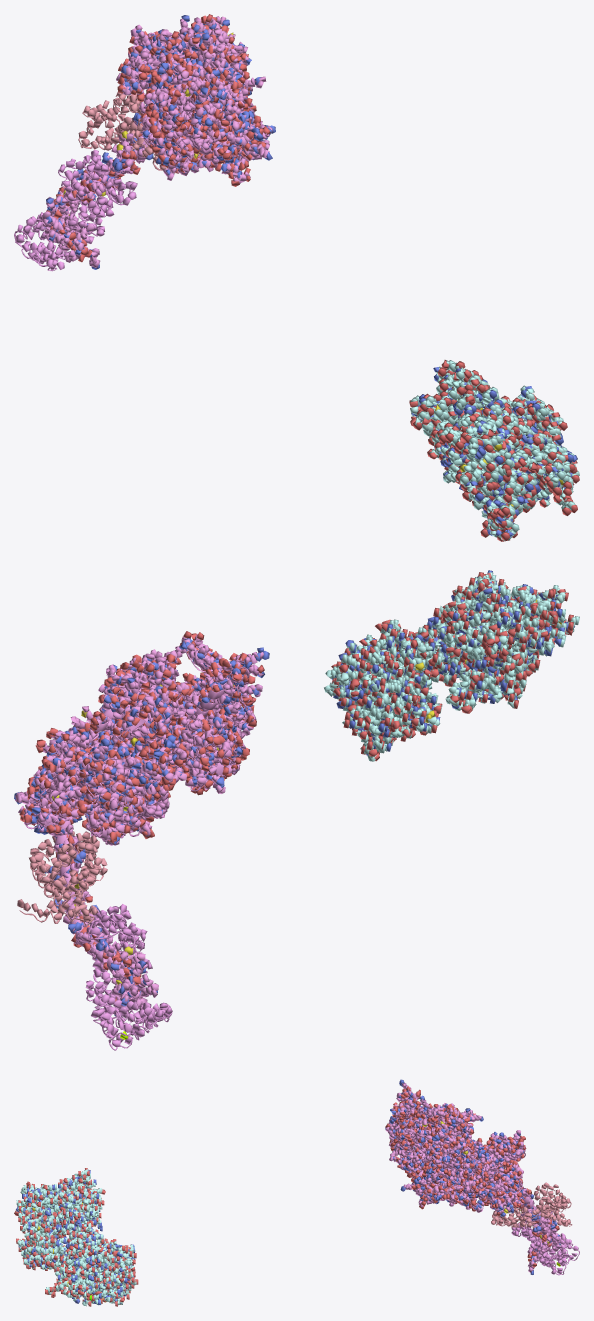
Rendered from actin-myosin-sphere-lod1-draco.glb.
3 renders of one model, top to bottom at view 1: azimuth 30°, elevation 25°; view 2: azimuth 150°, elevation 25°; view 3: azimuth 270°, elevation 25°, orthographic. The views are drawn at different scales.
Visible parts, largest first — view 1: 2MYS, 1ATN; view 2: 2MYS, 1ATN; view 3: 2MYS, 1ATN.
Boxes of the visible parts, x1,y1,x2,y2 form: 2MYS: (14,14,275,271); 1ATN: (409,360,579,541); 2MYS: (14,631,269,1050); 1ATN: (324,570,579,761); 2MYS: (385,1079,579,1275); 1ATN: (14,1168,138,1306).
Bounding box in the file's own units: 0.8843 × 1.36 × 3.6.
